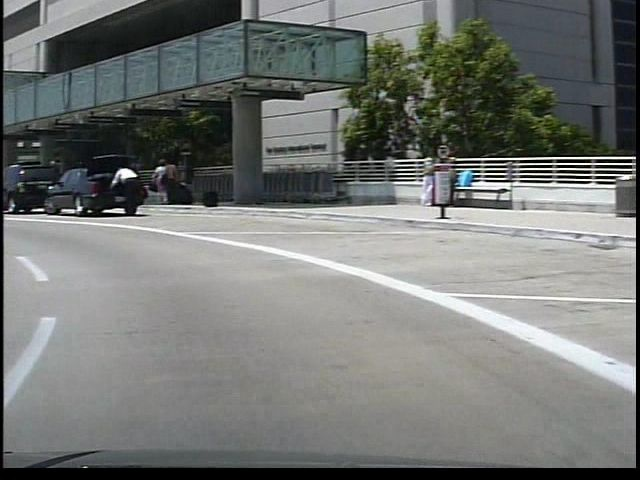person: (104, 165, 140, 221), (159, 156, 177, 208), (147, 160, 164, 207)
